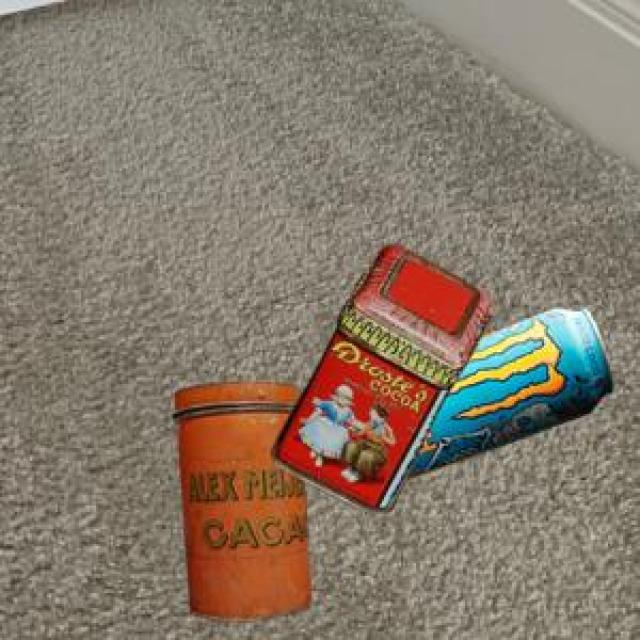logam: (268, 242, 490, 513), (402, 306, 609, 477), (170, 379, 308, 618)
